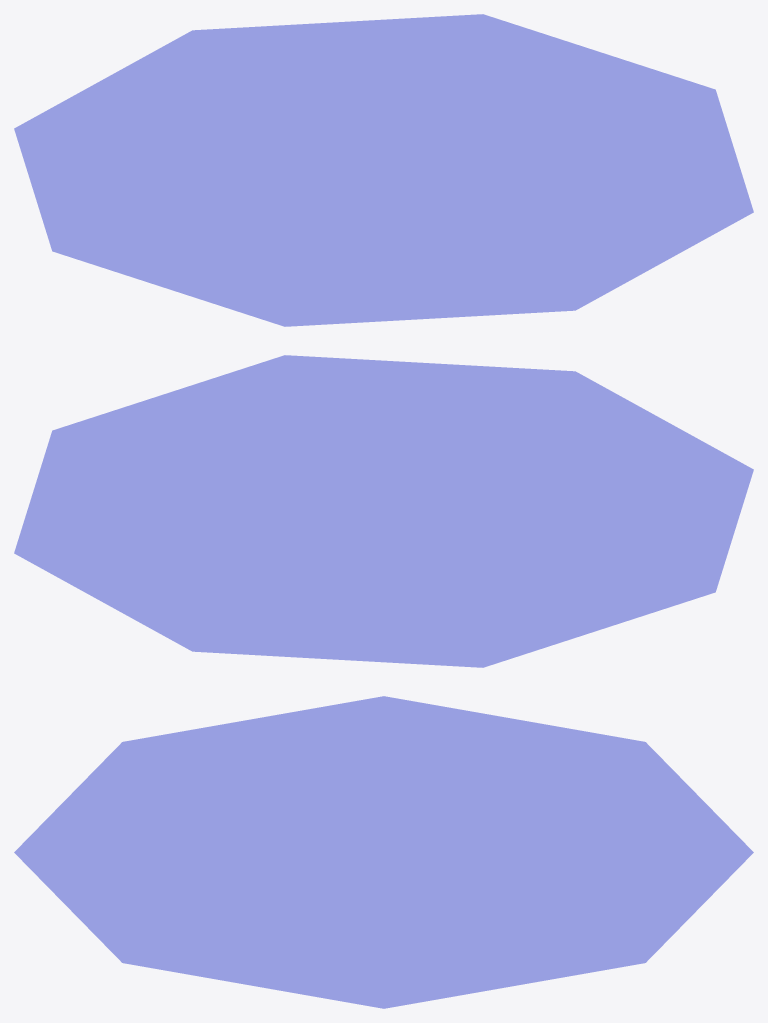
The model's file is Extra 3.fbx.
The picture shows the model from 3 angles, top to bottom: view 1: azimuth 30°, elevation 25°; view 2: azimuth 150°, elevation 25°; view 3: azimuth 270°, elevation 25°; orthographic projection. The views are drawn at different scales.
Parts seen in each view (by area): view 1: Extra 3; view 2: Extra 3; view 3: Extra 3.
Part boxes in pixels (left/top/right/bottom): Extra 3: left=14, top=14, right=753, bottom=326; Extra 3: left=14, top=355, right=753, bottom=667; Extra 3: left=14, top=696, right=753, bottom=1008.
Size of the model in its own units: 1303 by 0.000213 by 1303.
